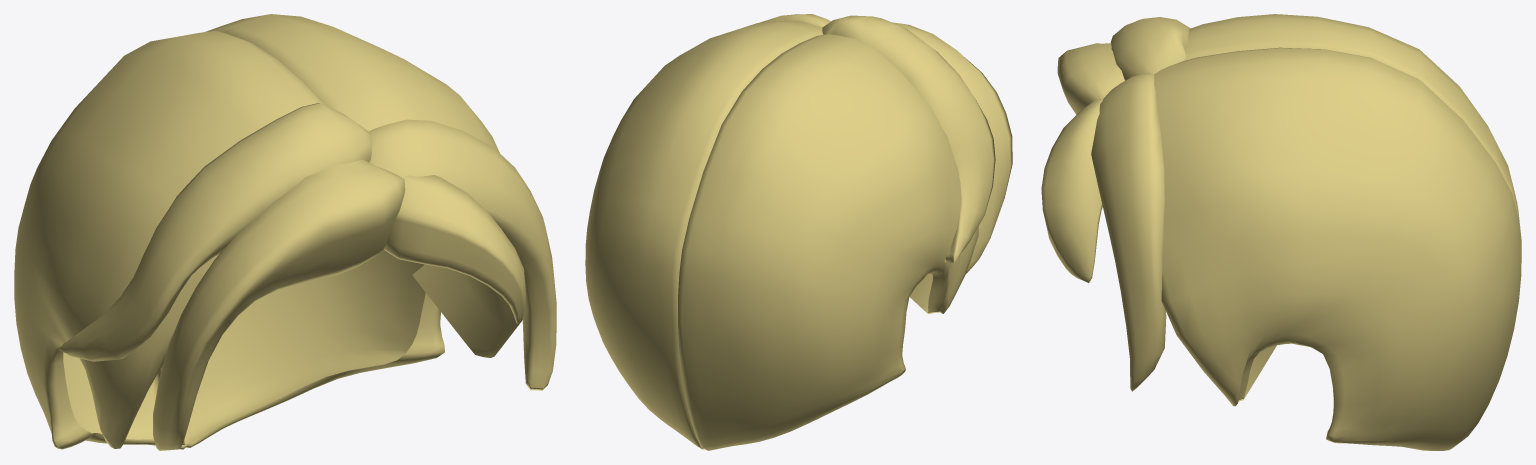
File: hair_cool.glb
3 renders of one model, left to right at view 1: azimuth 30°, elevation 25°; view 2: azimuth 150°, elevation 25°; view 3: azimuth 270°, elevation 25°, orthographic. The views are drawn at different scales.
Parts seen in each view (by area): view 1: hair_cool; view 2: hair_cool; view 3: hair_cool.
Boxes of the visible parts, x1=… form: hair_cool: x1=14, y1=14, x2=556, y2=450; hair_cool: x1=585, y1=14, x2=1012, y2=450; hair_cool: x1=1041, y1=14, x2=1521, y2=450.
Size of the model in its own units: 0.3676 by 0.3735 by 0.403.
